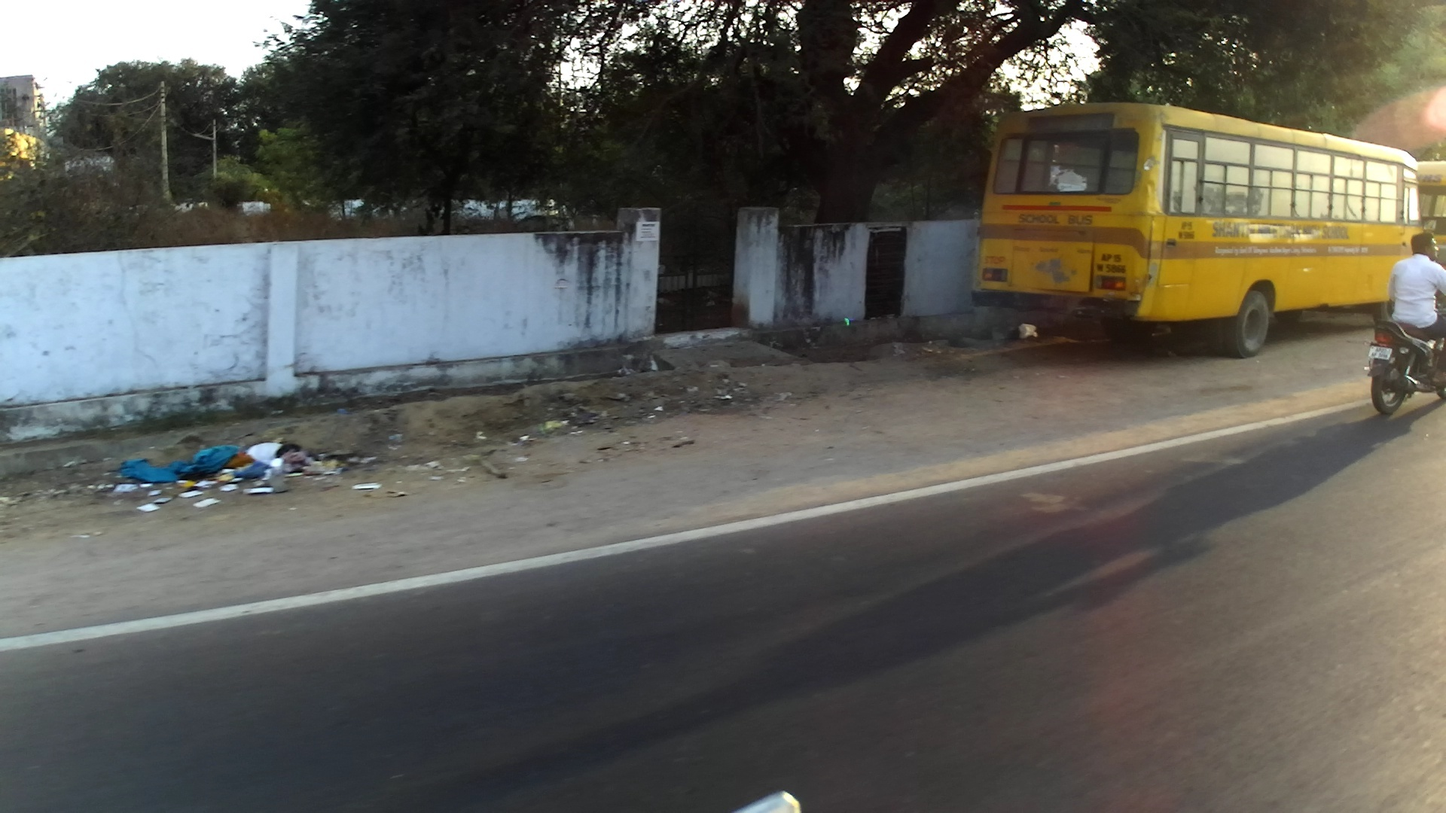bus: (967, 106, 1426, 361), (1413, 157, 1444, 263)
motorcycle: (1362, 303, 1444, 415)
rider: (1393, 227, 1444, 352)
